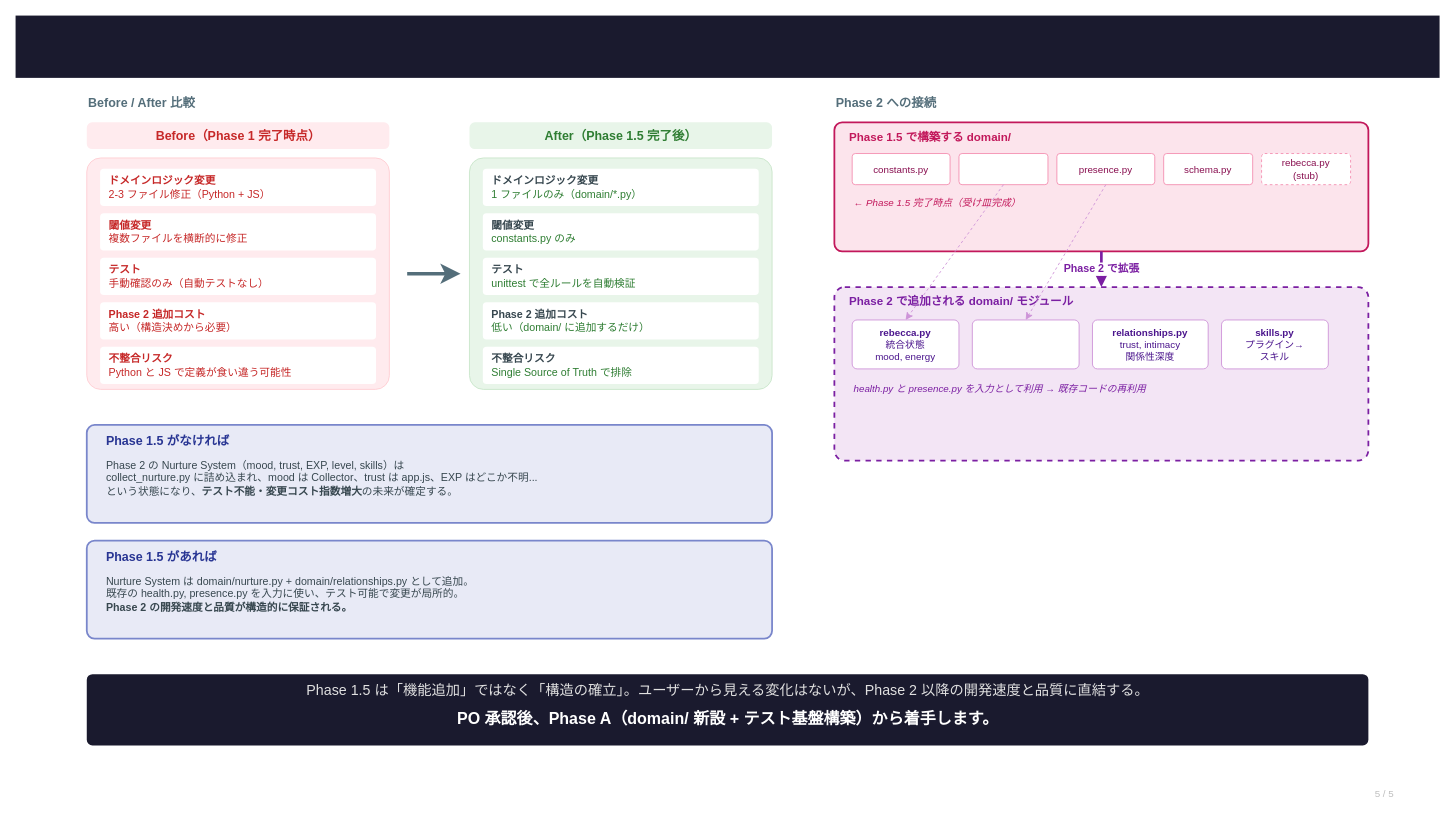
Some shapes in this 1454 by 818 pixel diagram are drawn without their labels. The shapes that lost their labels are listed below. From the top down, each one's centre as x and y in pixels, then its label:
At point (727, 46): "期待効果と Phase 2 への接続".
At point (1003, 169): "health.py".
At point (1025, 344): "nurture.py EXP, Level 成長ロジック".
